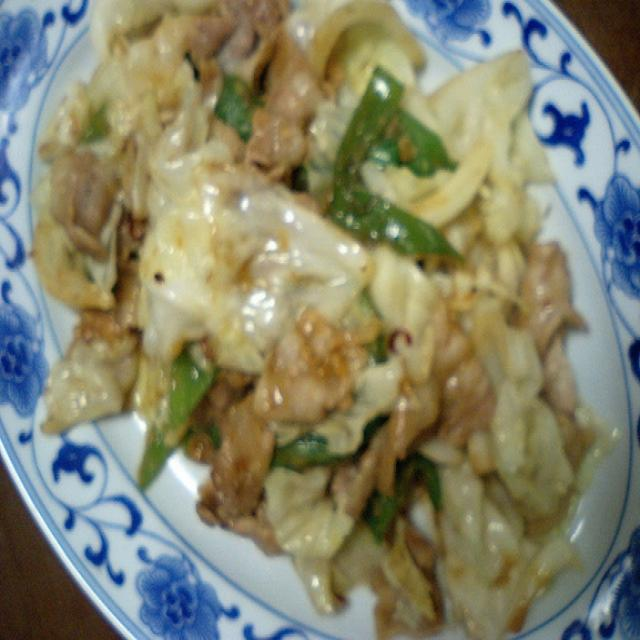猪肉菜式: (43, 34, 599, 591)
